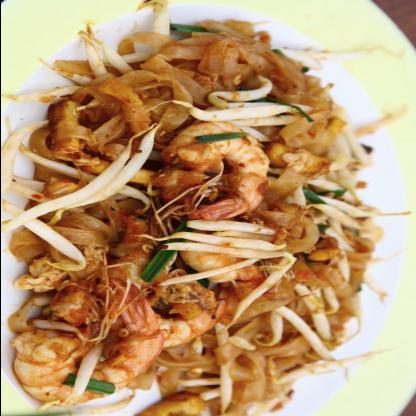Pad Thai: (1, 23, 379, 416)
